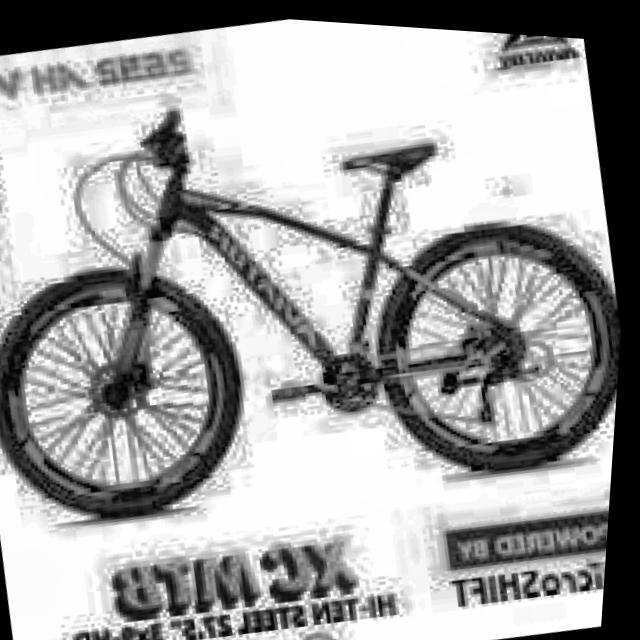bike: (0, 21, 639, 571)
